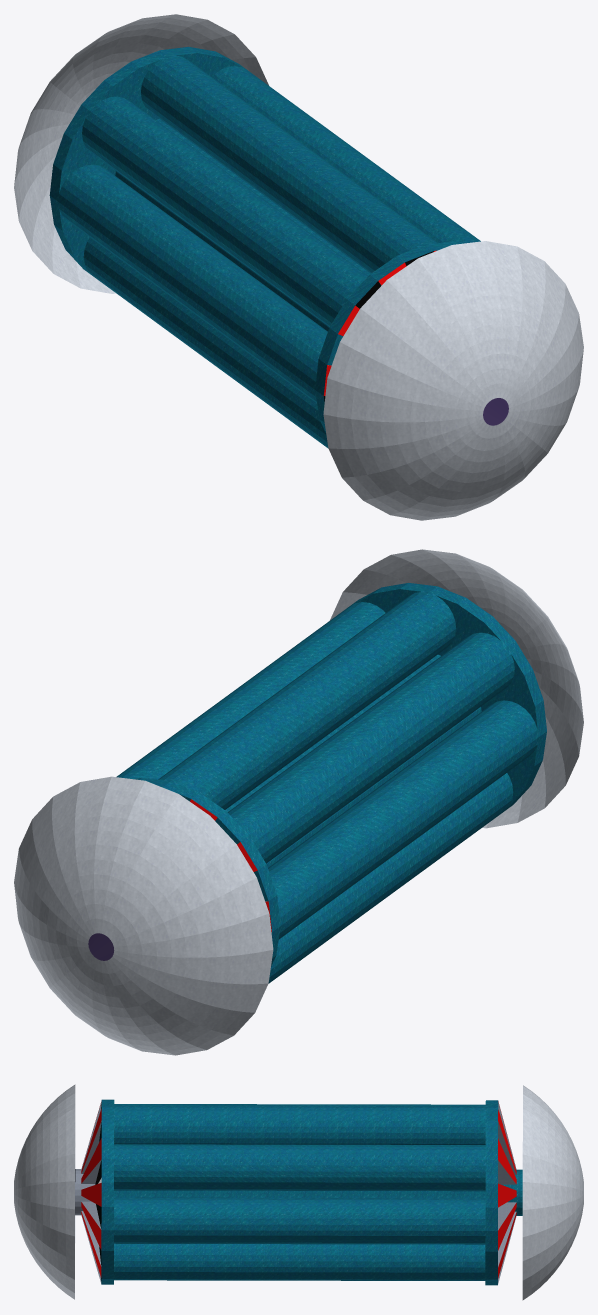
Rendered from upgradeMachine.fbx.
3 views of the same model, one above another, from view 1: azimuth 30°, elevation 25°; view 2: azimuth 150°, elevation 25°; view 3: azimuth 270°, elevation 25° (orthographic). The views are drawn at different scales.
Parts seen in each view (by area): view 1: skp9FA4_1; view 2: skp9FA4_1; view 3: skp9FA4_1.
Boxes of the visible parts, <box> form: skp9FA4_1: <box>14,14,583,520</box>; skp9FA4_1: <box>14,549,583,1055</box>; skp9FA4_1: <box>14,1084,583,1300</box>.
Size of the model in its own units: 17.84 by 17.83 by 46.75.
